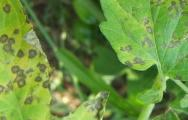Tomato Septoria leaf spot: (0, 0, 105, 120), (93, 0, 188, 85)
